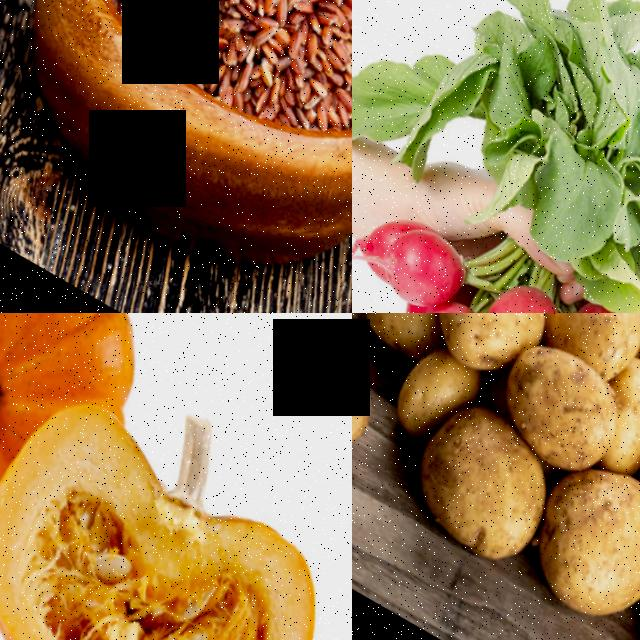potato: (378, 381, 569, 578), (497, 433, 640, 634), (470, 316, 634, 484), (405, 313, 553, 379), (516, 313, 640, 381), (577, 353, 640, 482), (352, 313, 391, 476), (352, 313, 456, 362)
pumpkin: (0, 348, 352, 640), (0, 313, 140, 614)
radishes: (352, 10, 640, 313)
red rice: (32, 0, 352, 172)
